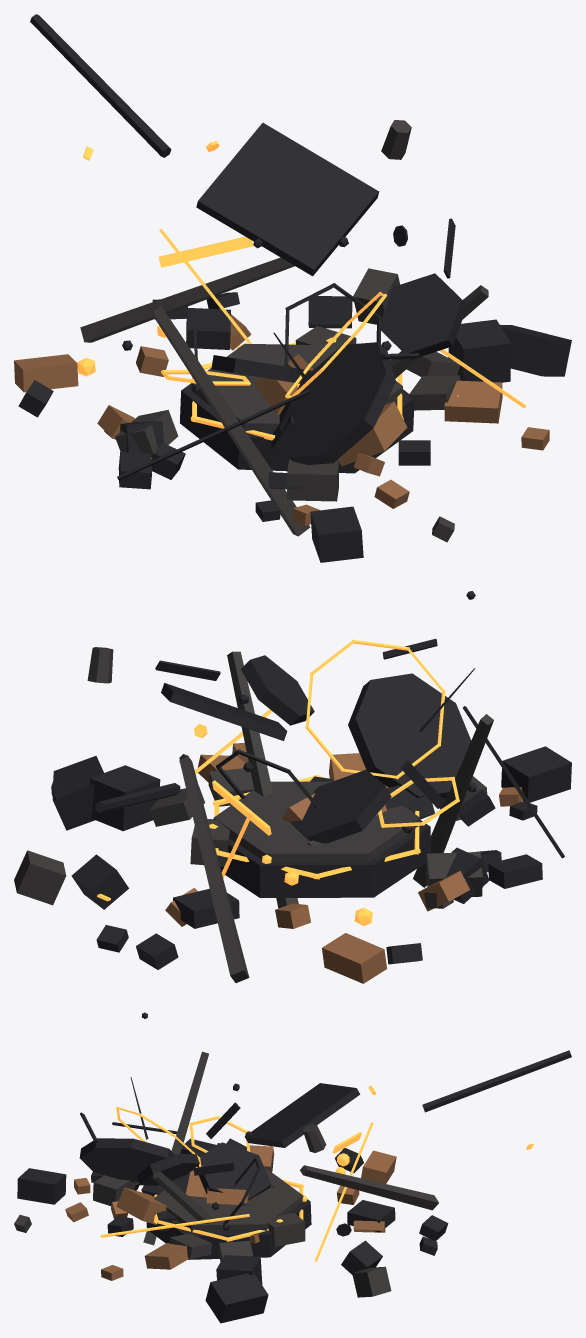
The model's file is Wreck_OverwatchSpire.fbx.
The picture shows the model from 3 angles, top to bottom: view 1: azimuth 30°, elevation 25°; view 2: azimuth 150°, elevation 25°; view 3: azimuth 270°, elevation 25°; orthographic projection. The views are drawn at different scales.
Parts seen in each view (by area): view 1: Wreck_OverwatchSpire; view 2: Wreck_OverwatchSpire; view 3: Wreck_OverwatchSpire.
Boxes of the visible parts, box(x1,y1,x2,y2) form: Wreck_OverwatchSpire: box(14, 14, 571, 562); Wreck_OverwatchSpire: box(14, 591, 571, 983); Wreck_OverwatchSpire: box(14, 1012, 571, 1323).
Size of the model in its own units: 1.55 by 0.9369 by 2.17.
